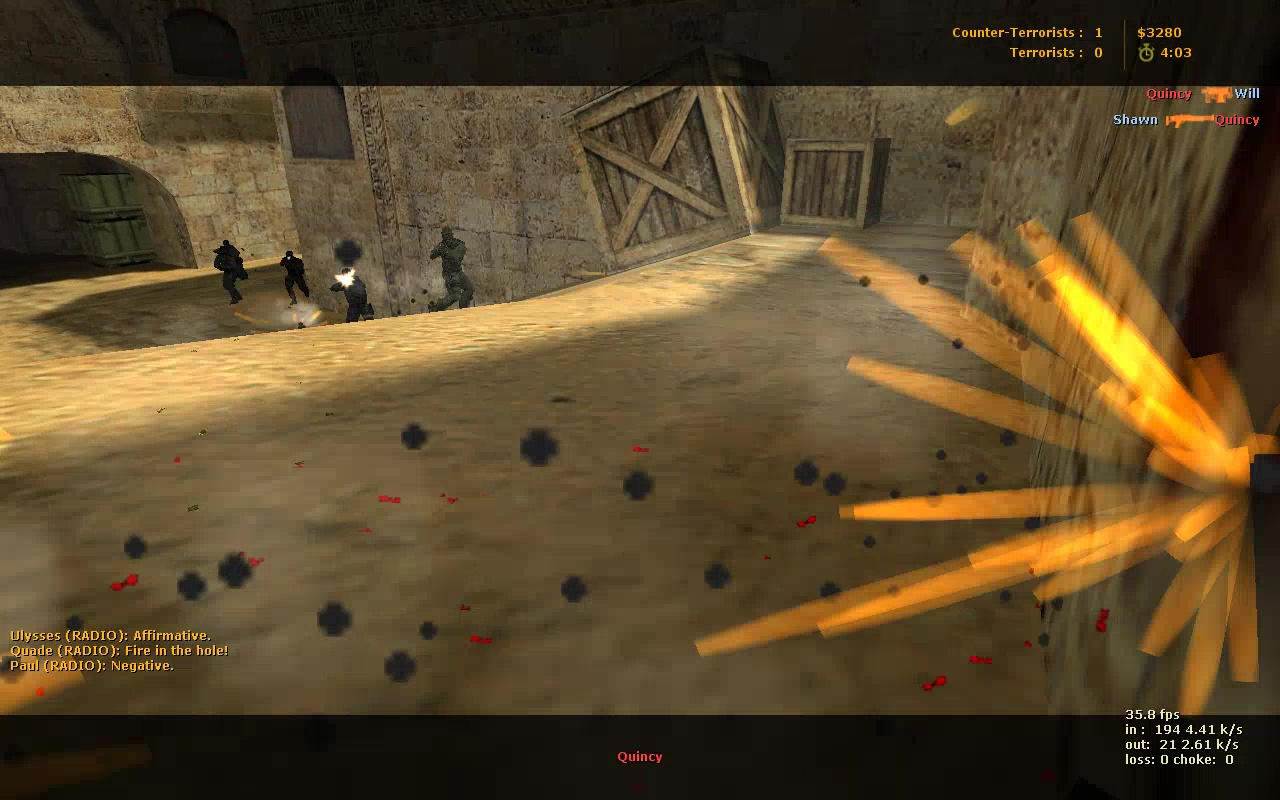ct: (427, 227, 474, 314), (329, 266, 379, 324), (214, 242, 251, 306), (280, 250, 311, 308)
